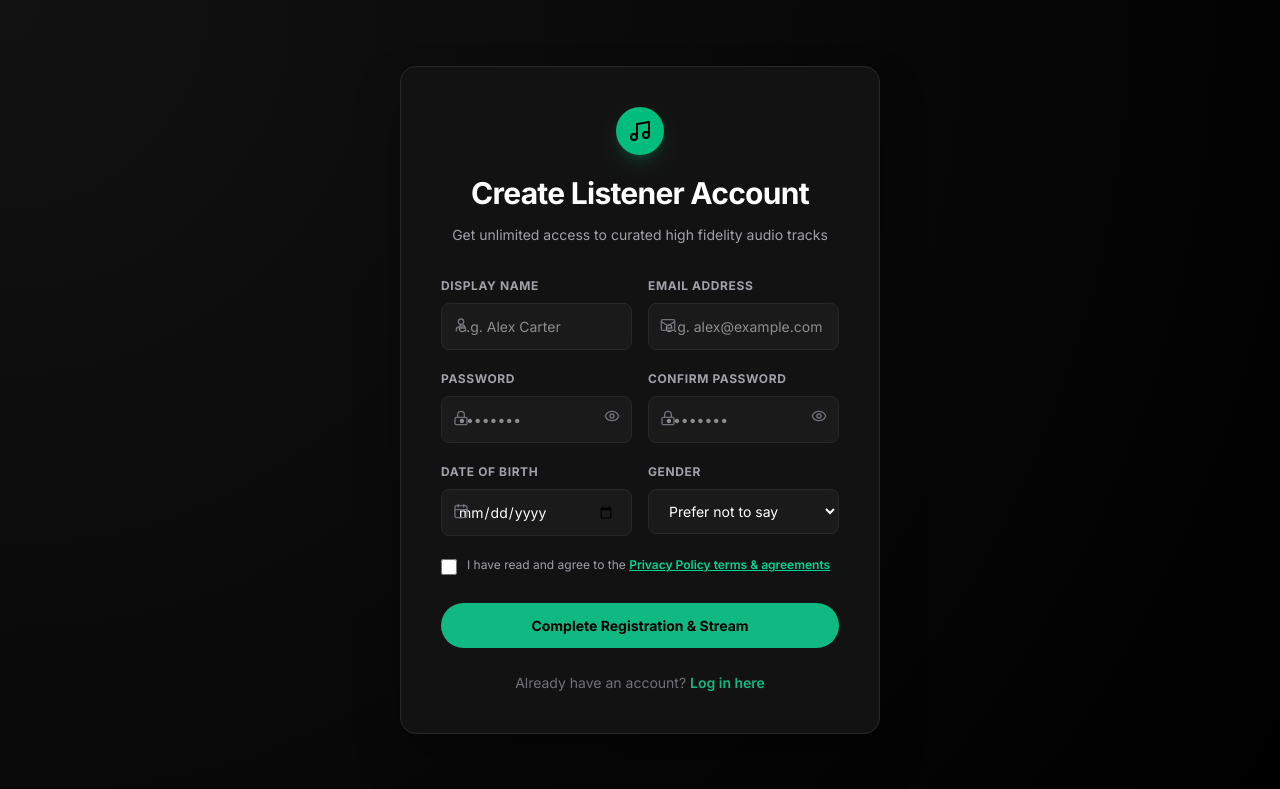
Scenario: Spotify-Like Music Application - 10 Test Suite › 2. should enforce required display name and email validation constraints on listener signup
Step 1. Click the button "Complete Registration & Stream" → (640,626), box left=441, top=603, right=839, bottom=648
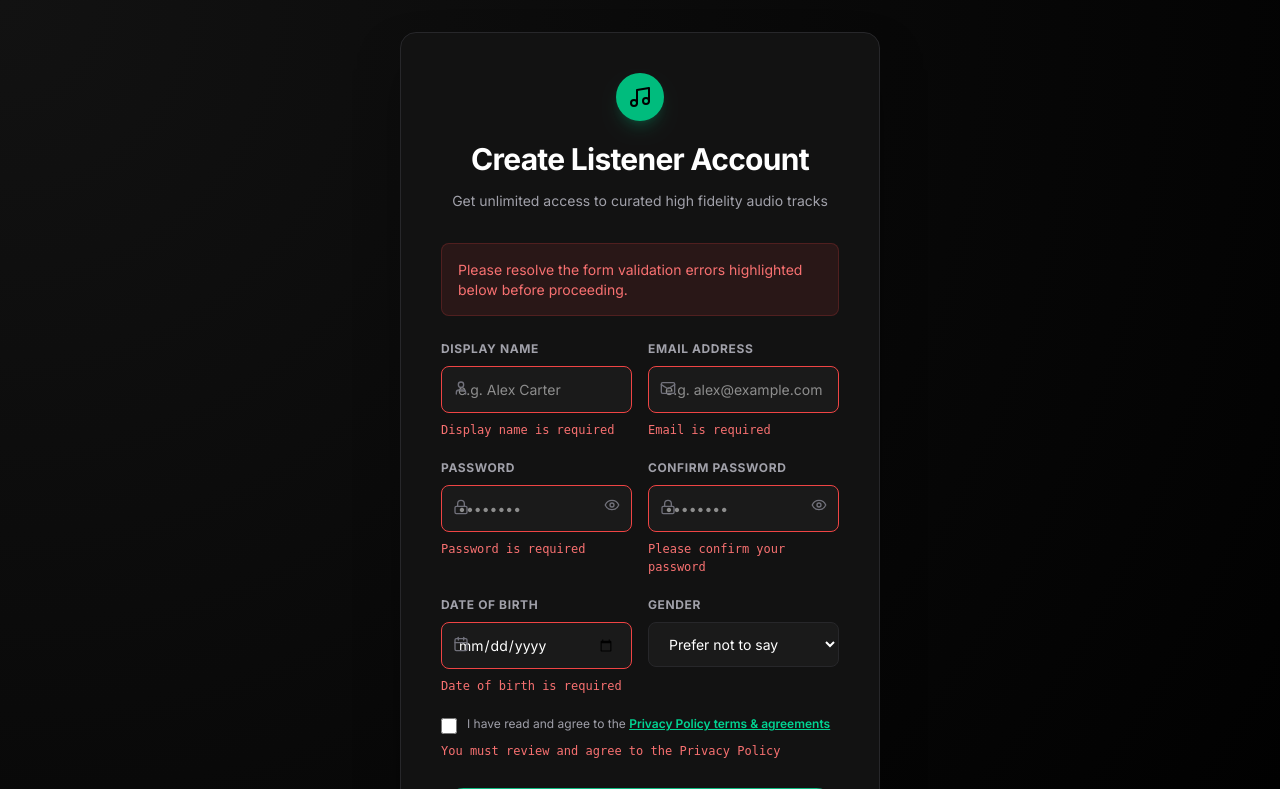
Now the text "Display name is required" is shown, box left=441, top=421, right=632, bottom=439
Now the text "Email is required" is shown, box left=648, top=423, right=771, bottom=437
